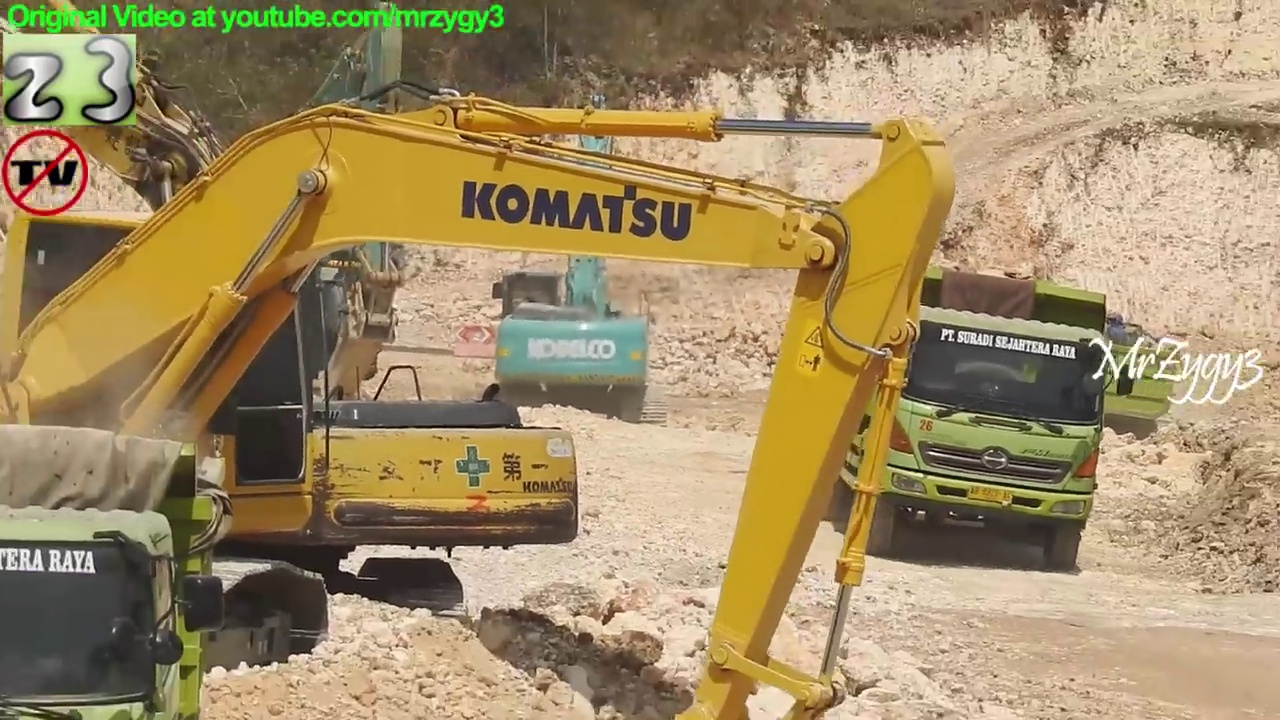excavator: (5, 76, 960, 720), (3, 1, 589, 685), (454, 92, 685, 441)
truck: (802, 255, 1127, 586), (3, 424, 242, 720)
